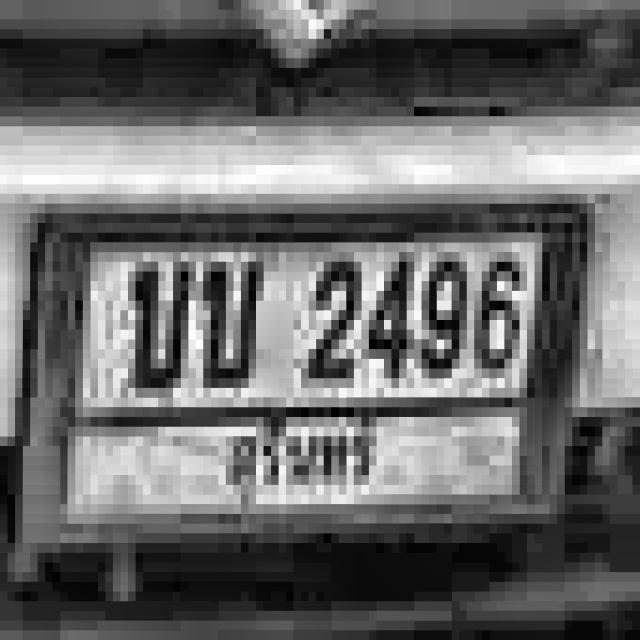license-plate: (21, 182, 586, 578)
